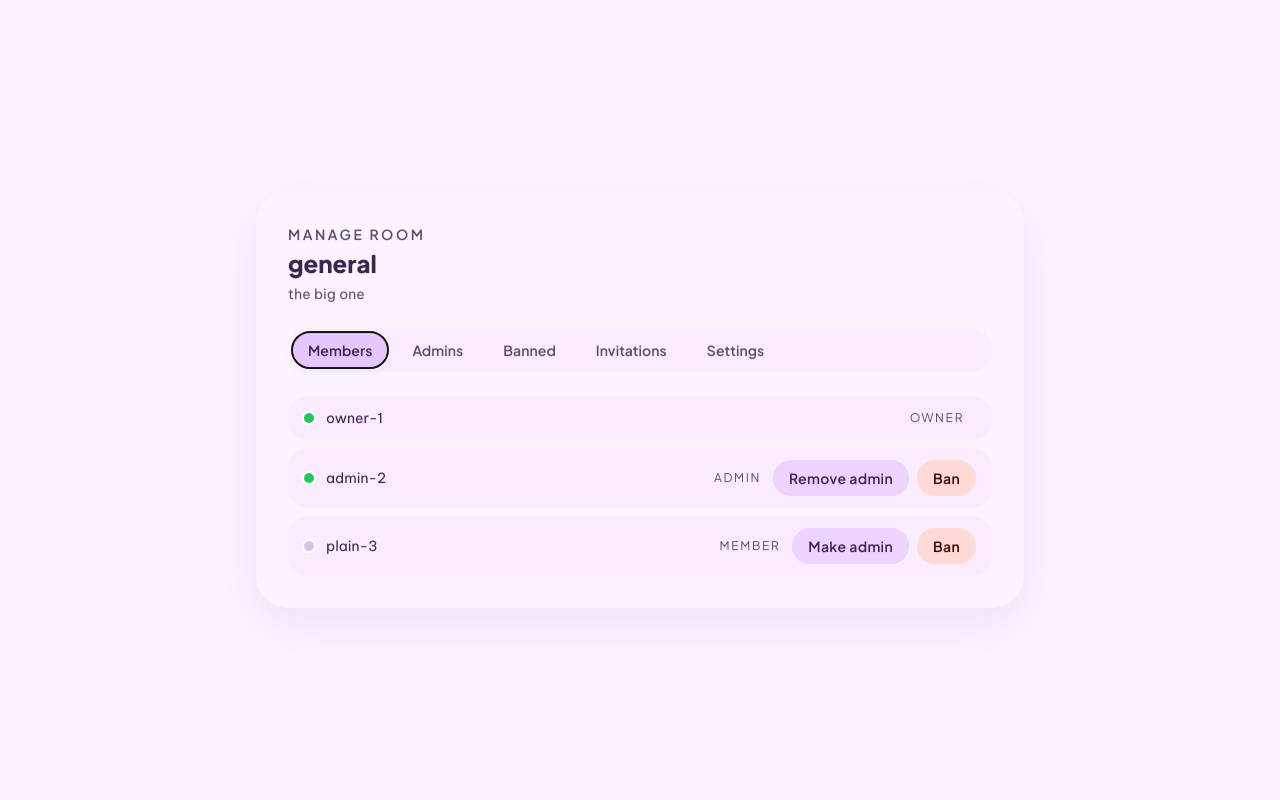
Test: <ManageRoomModal /> › Invitations tab: shows the same generic queued message when username does not exist (fail-silent per ADR-005)
The image size is (1280, 800).
Click the button with test id "manage-room-tab-invitations": (631, 350) left=580, top=332, right=683, bottom=368
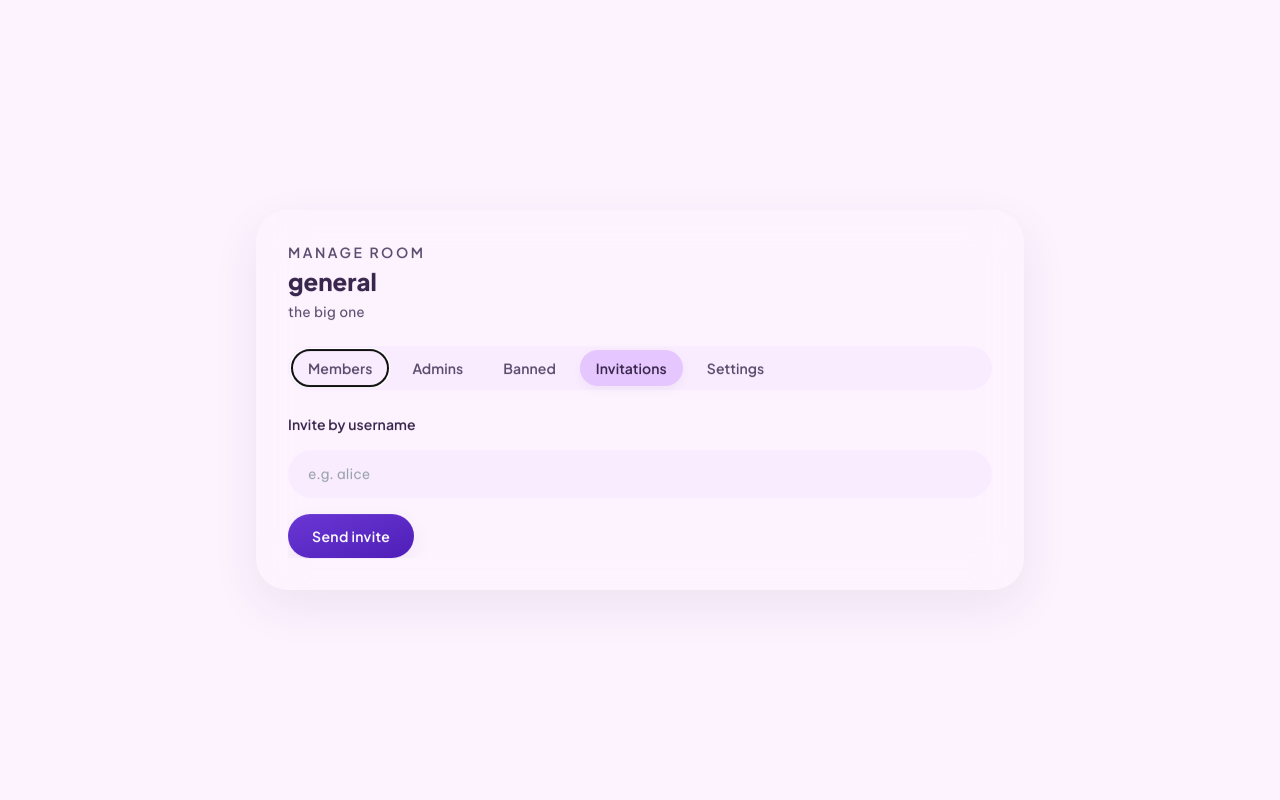
In the field labelled "Invite by username": (640, 474) left=288, top=450, right=992, bottom=498, type "ghost-user"
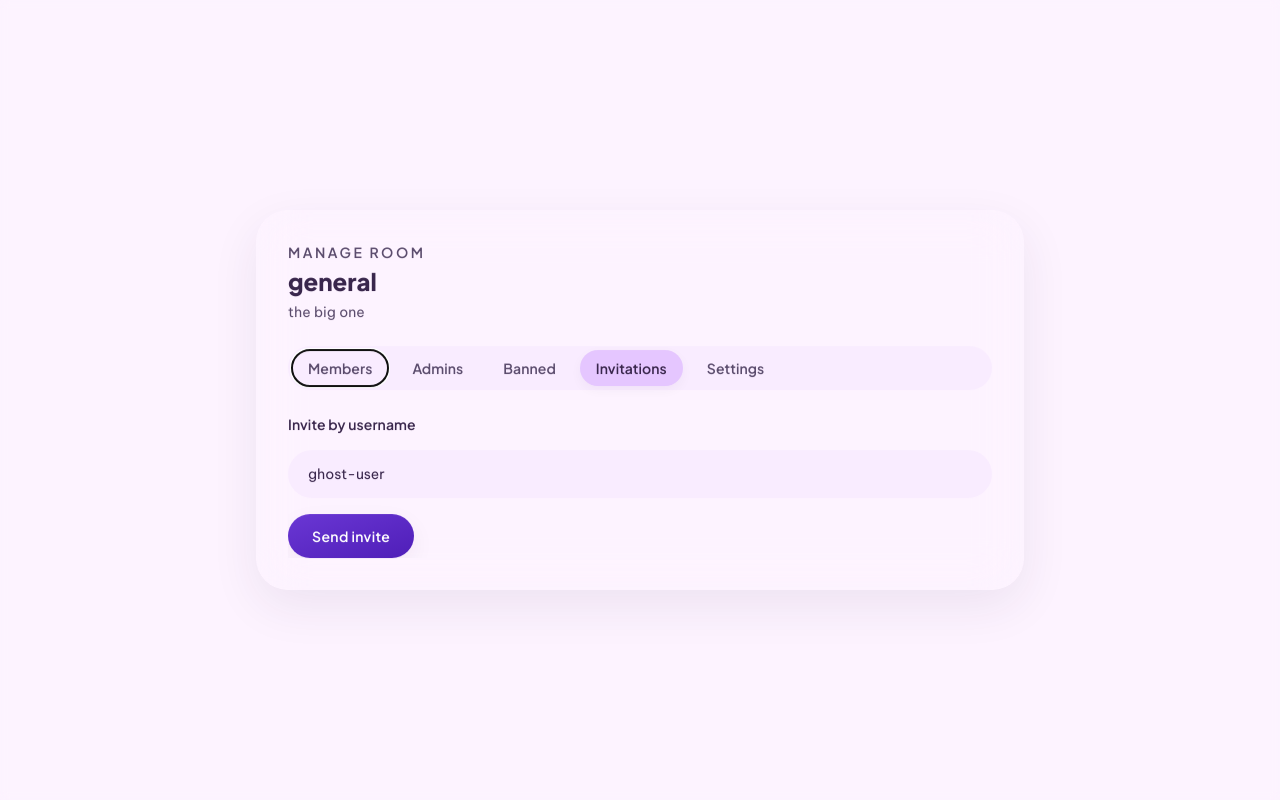
Click the button "Send invite": (351, 536) left=288, top=514, right=414, bottom=558
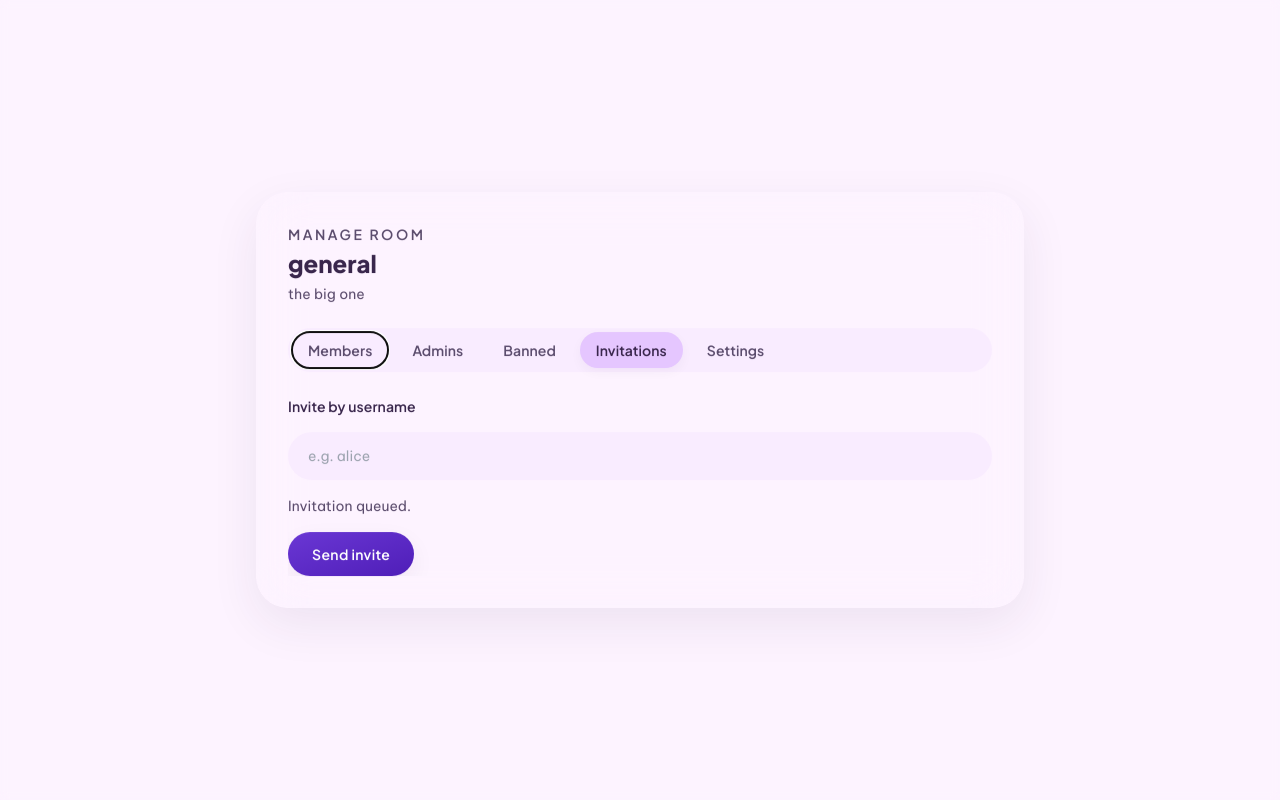
Check: the message does not show "not found", box left=288, top=497, right=411, bottom=515
Check: the message shows "Invitation queued", box left=288, top=497, right=411, bottom=515
